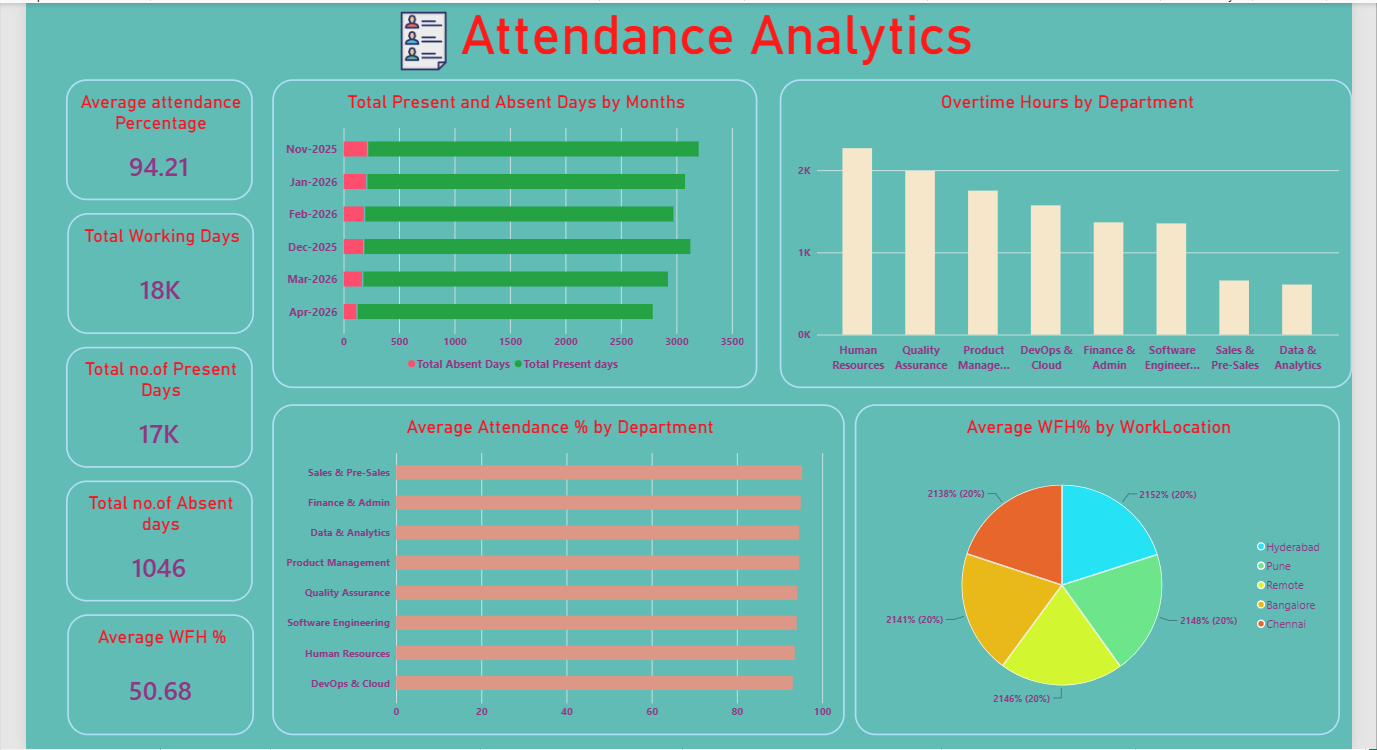

The dashboard page shown, as its layout file describes it:
{"tool":"powerbi","page":{"name":"Attendance Analytics","canvas":[1920,1080],"ordinal":4},"visuals":[{"type":"card","title":"Average WFH %","fields":{"Values":["Avg(workforceretentiondb attendance.WFHPercent)"]},"box":[59.7,884.9,270,175.5],"z":0},{"type":"card","title":"Average attendance Percentage","fields":{"Values":["Avg(workforceretentiondb attendance.AttendancePercent)"]},"box":[57.9,110.4,270,175],"z":1000},{"type":"card","title":"Total no.of Present Days","fields":{"Values":["workforceretentiondb attendance.Total Present days"]},"box":[57.9,497.7,270,175],"z":2000},{"type":"card","title":"Total no.of Absent days","fields":{"Values":["workforceretentiondb attendance.Total Absent Days"]},"box":[57.9,691.3,270,175],"z":3000},{"type":"card","title":"Total Working Days","fields":{"Values":["Sum(workforceretentiondb attendance.WorkingDays)"]},"box":[59.7,304,270,175],"z":4000},{"type":"clusteredBarChart","title":"Average Attendance % by Department","fields":{"Category":["workforceretentiondb departments_master.DepartmentName"],"Y":["Avg(workforceretentiondb attendance.AttendancePercent)"]},"box":[356.5,580.9,828.8,479.6],"z":5000},{"type":"barChart","title":"Total Present and Absent Days by Months","fields":{"Category":["workforceretentiondb attendance.MonthYear"],"Y":["workforceretentiondb attendance.Total Absent Days","workforceretentiondb attendance.Total Present days"]},"box":[356.5,110.4,702.1,447],"z":6000},{"type":"pieChart","fields":{"Category":["workforceretentiondb employees_master.WorkLocation"],"Y":["workforceretentiondb attendance.Average WFH%"]},"box":[1199.8,580.9,702.1,479.6],"z":7000},{"type":"columnChart","title":"Overtime Hours by Department","fields":{"Category":["workforceretentiondb departments_master.DepartmentName"],"Y":["workforceretentiondb attendance.Total overtime hours"]},"box":[1091.2,110.4,828.8,447],"z":8000},{"type":"textbox","box":[240.7,0,1518.3,110.4],"z":9000},{"type":"image","box":[425.3,12.7,300.4,85.1],"z":10000}]}

Visuals, with their boxes on the page's 1920x1080 design canvas (x1, y1, x2, y2). These are canvas units, not pixel positions in the 1377x750 screenshot, which may show the page scaled, cropped or inside an application window:
"Average WFH %" card: <region>60, 885, 330, 1060</region>
"Average attendance Percentage" card: <region>58, 110, 328, 285</region>
"Total no.of Present Days" card: <region>58, 498, 328, 673</region>
"Total no.of Absent days" card: <region>58, 691, 328, 866</region>
"Total Working Days" card: <region>60, 304, 330, 479</region>
"Average Attendance % by Department" clusteredBarChart: <region>356, 581, 1185, 1060</region>
"Total Present and Absent Days by Months" barChart: <region>356, 110, 1059, 557</region>
pieChart - workforceretentiondb employees_master.WorkLocation x workforceretentiondb attendance.Average WFH%: <region>1200, 581, 1902, 1060</region>
"Overtime Hours by Department" columnChart: <region>1091, 110, 1920, 557</region>
textbox: <region>241, 0, 1759, 110</region>
image: <region>425, 13, 726, 98</region>
